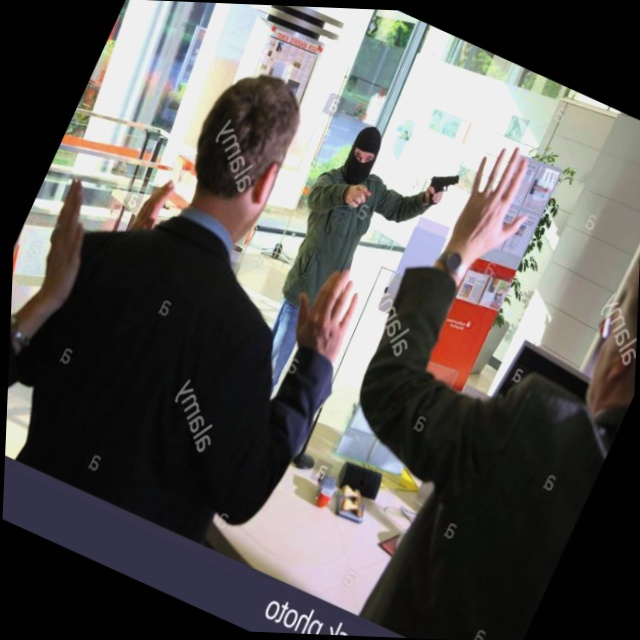gun: (403, 154, 472, 234)
